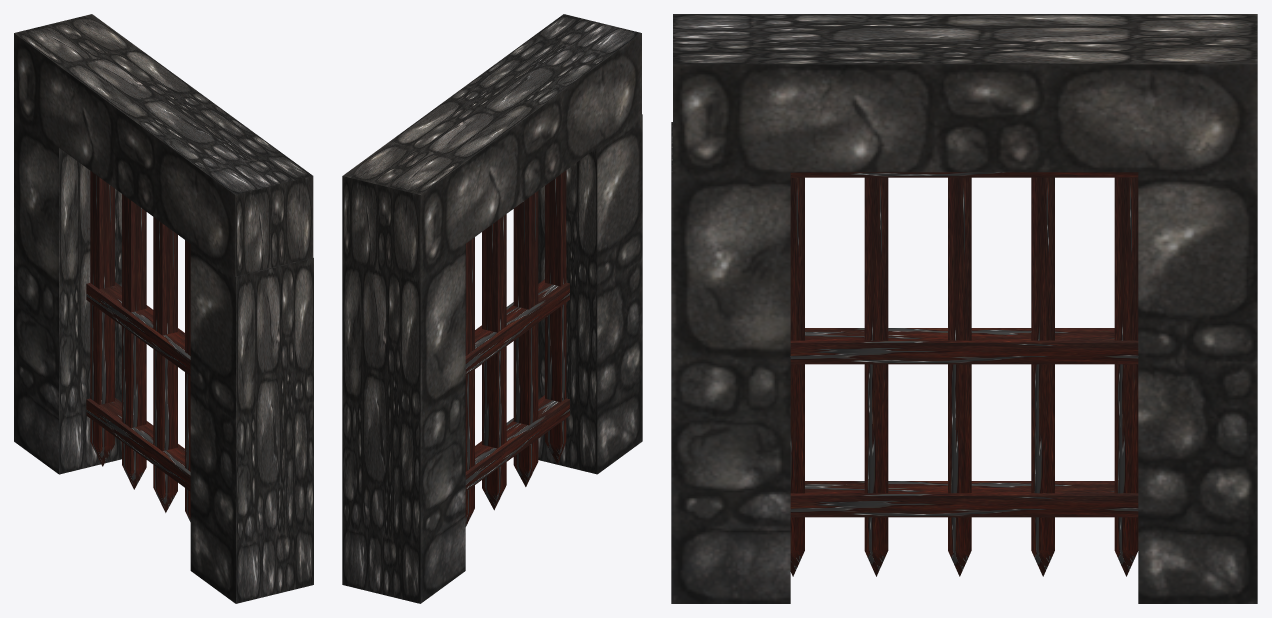
Rendered from GateAnim.FBX.
The picture shows the model from 3 angles, left to right: view 1: azimuth 30°, elevation 25°; view 2: azimuth 150°, elevation 25°; view 3: azimuth 270°, elevation 25°; orthographic projection. The views are drawn at different scales.
Visible parts, largest first — view 1: Box01, Box02; view 2: Box01, Box02; view 3: Box01, Box02.
Part boxes in pixels (x1,y1,x2,y2): Box01: (14,14,313,603); Box02: (86,171,190,521); Box01: (342,14,642,603); Box02: (465,170,569,526); Box01: (671,14,1257,603); Box02: (790,172,1138,576).
Size of the model in its own units: 50 by 250 by 246.
Materials: 2 (2 with a texture image).
